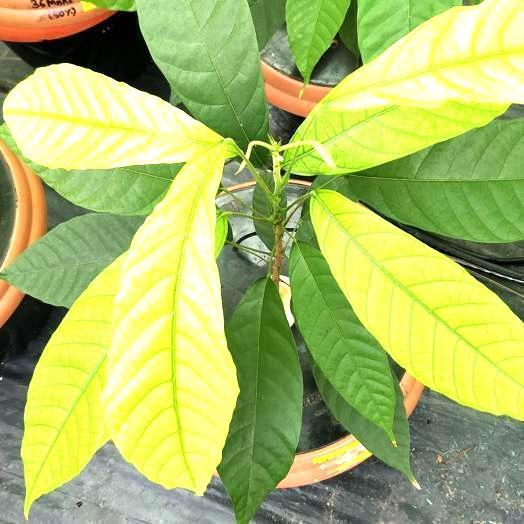Iron: (311, 189, 523, 419), (102, 146, 238, 494), (292, 0, 523, 174), (21, 255, 124, 517), (4, 64, 222, 168)
